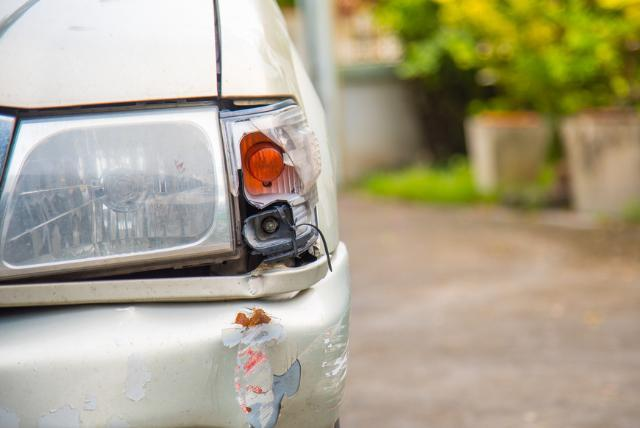Bumper: (202, 270, 350, 428)
Light: (189, 100, 321, 271)
